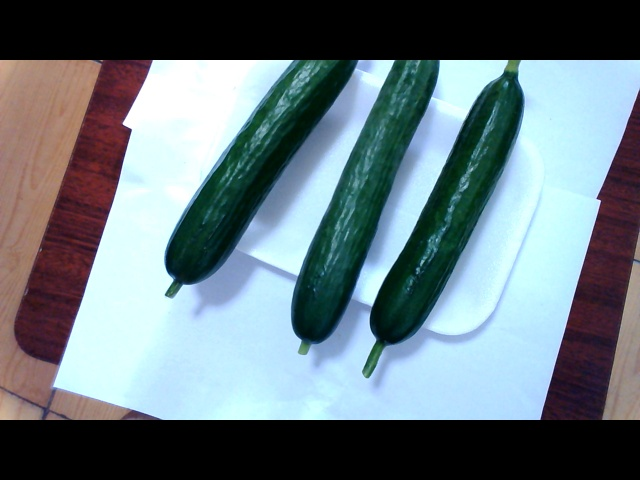cucumber: (184, 51, 511, 362)
